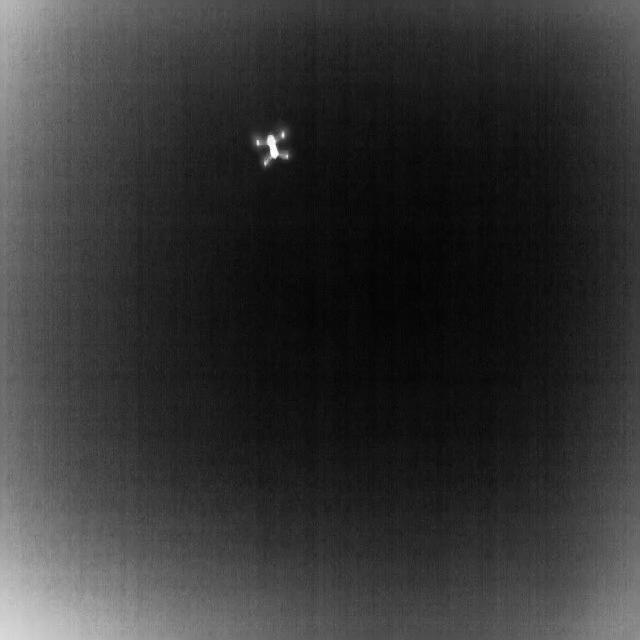drone: (252, 126, 294, 169)
